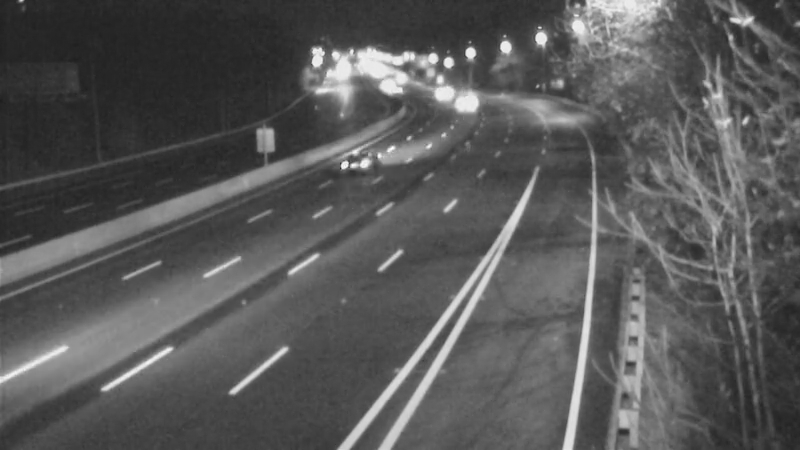vehicle: (318, 126, 398, 206), (374, 65, 424, 115), (413, 71, 463, 121), (431, 77, 481, 127)
